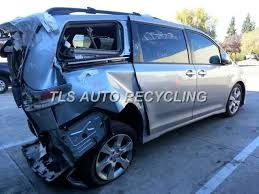Broken-glass: (56, 20, 123, 69)
Dent: (51, 69, 136, 128)
